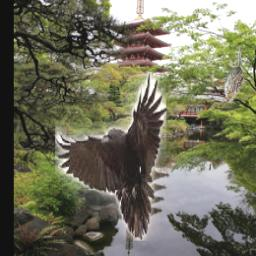Crow: (56, 72, 167, 241)
Sparrow: (223, 47, 245, 105)
